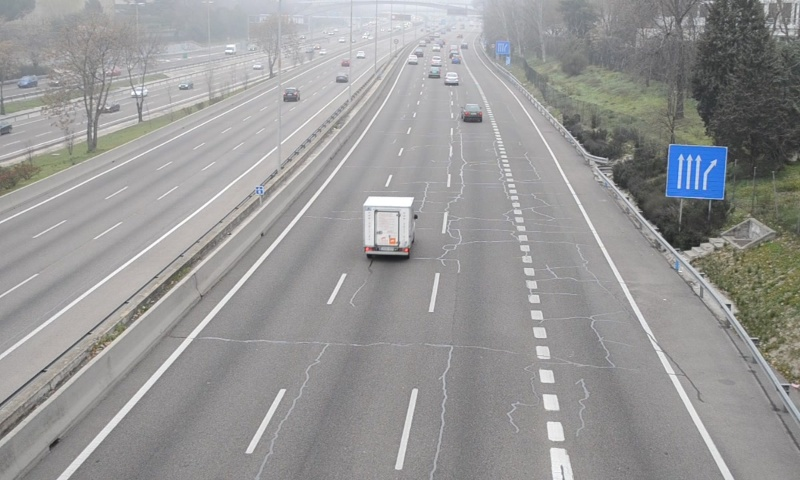car: (462, 102, 484, 122)
small-truck: (363, 197, 416, 256)
